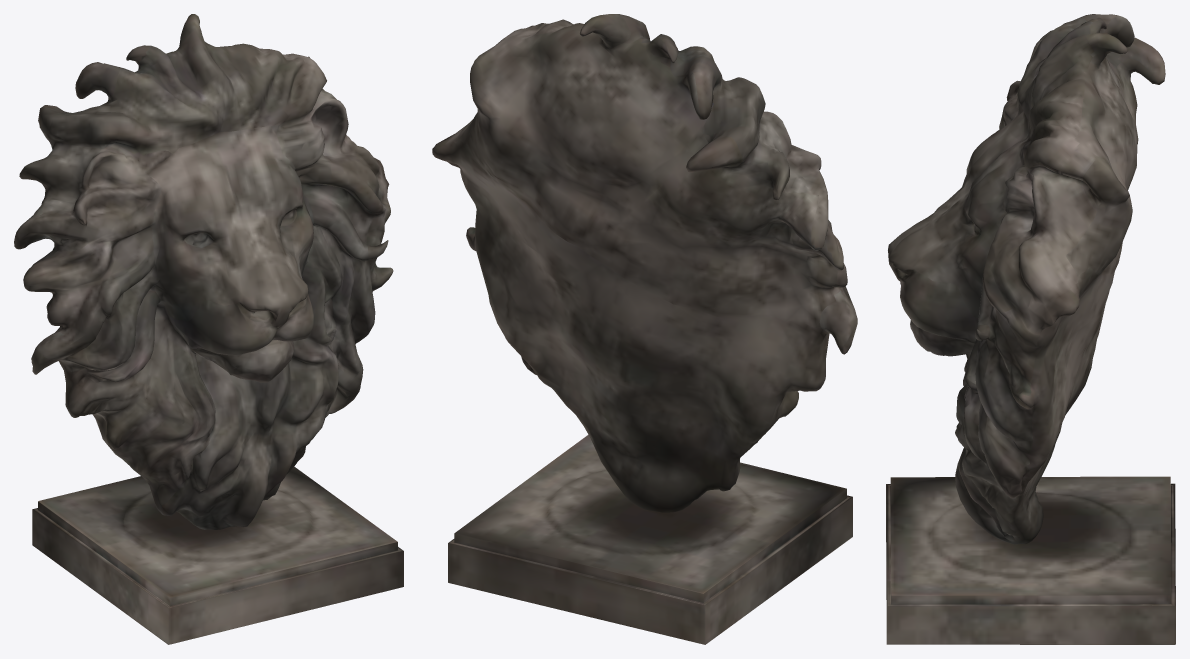
File: lion.glb
3 views of the same model, side by side, from view 1: azimuth 30°, elevation 25°; view 2: azimuth 150°, elevation 25°; view 3: azimuth 270°, elevation 25° (orthographic). The views are drawn at different scales.
Visible parts, largest first — view 1: lion_head; view 2: lion_head; view 3: lion_head.
Part boxes in pixels (box(x1,y1,x2,y2)): lion_head: box(14, 14, 403, 644); lion_head: box(432, 14, 857, 644); lion_head: box(886, 14, 1175, 644).
Bounding box in the file's own units: 0.3208 × 0.4364 × 0.2066.
1 material, 1 textured.
